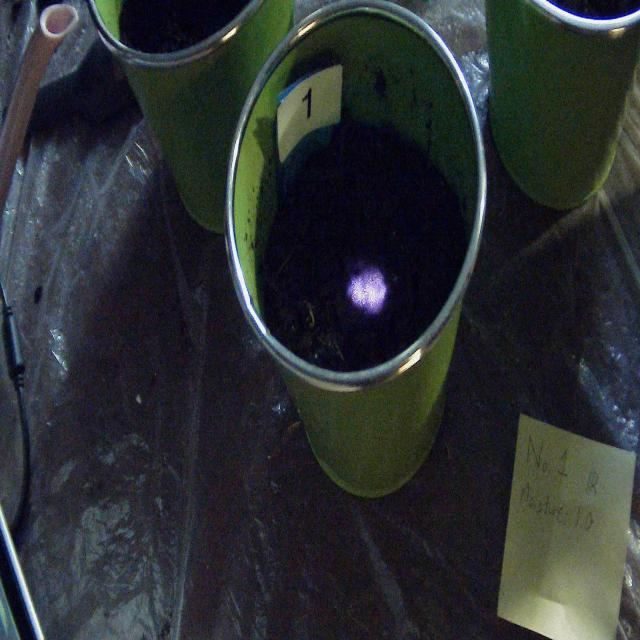soil-moisture-1.0: (349, 270, 387, 314)
